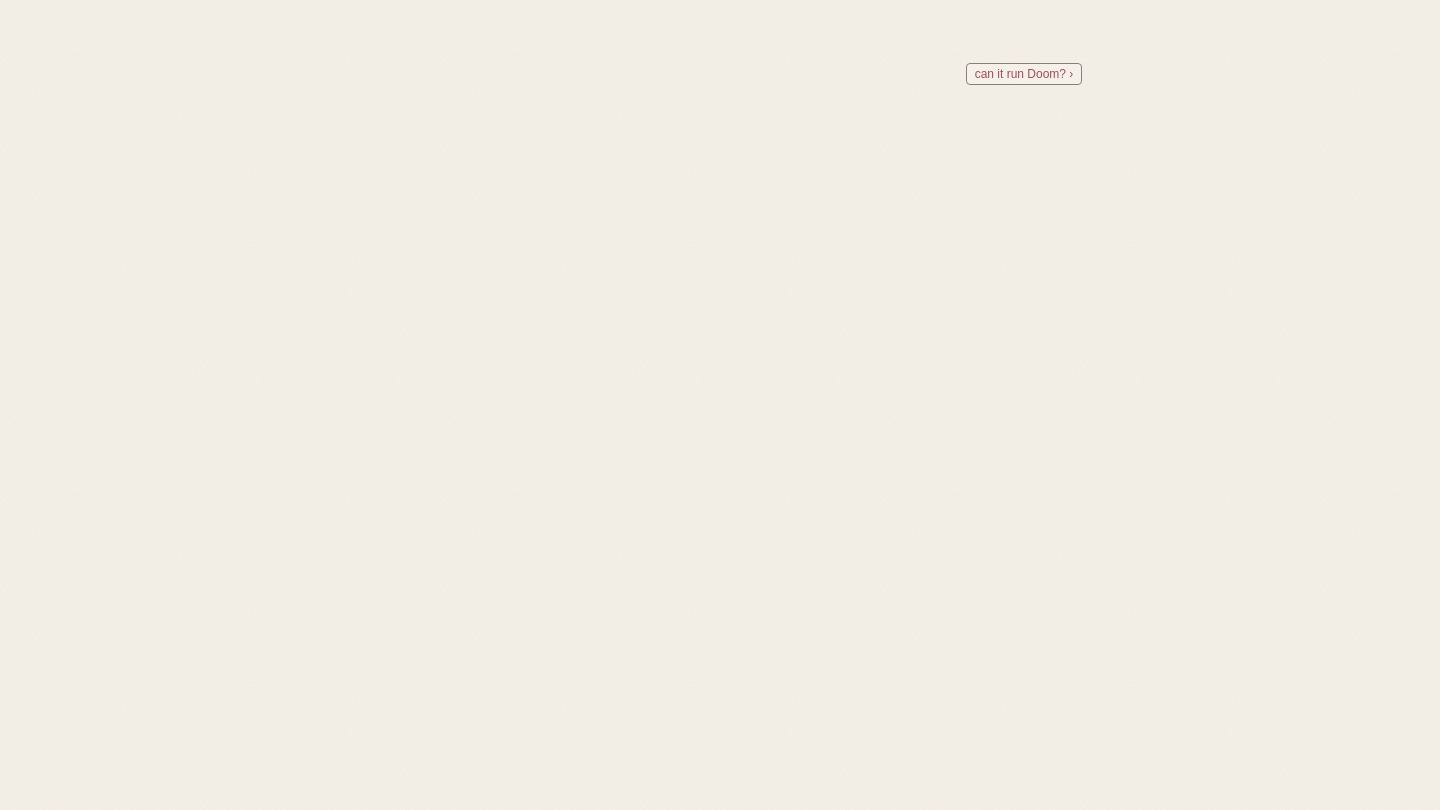
Test: LaptopScreen terminal › opens the terminal with the banner and focuses the input
Click the button with aria-label "Can it run Doom? Open the laptop terminal": {"x": 1024, "y": 74} [454,34,1108,88]
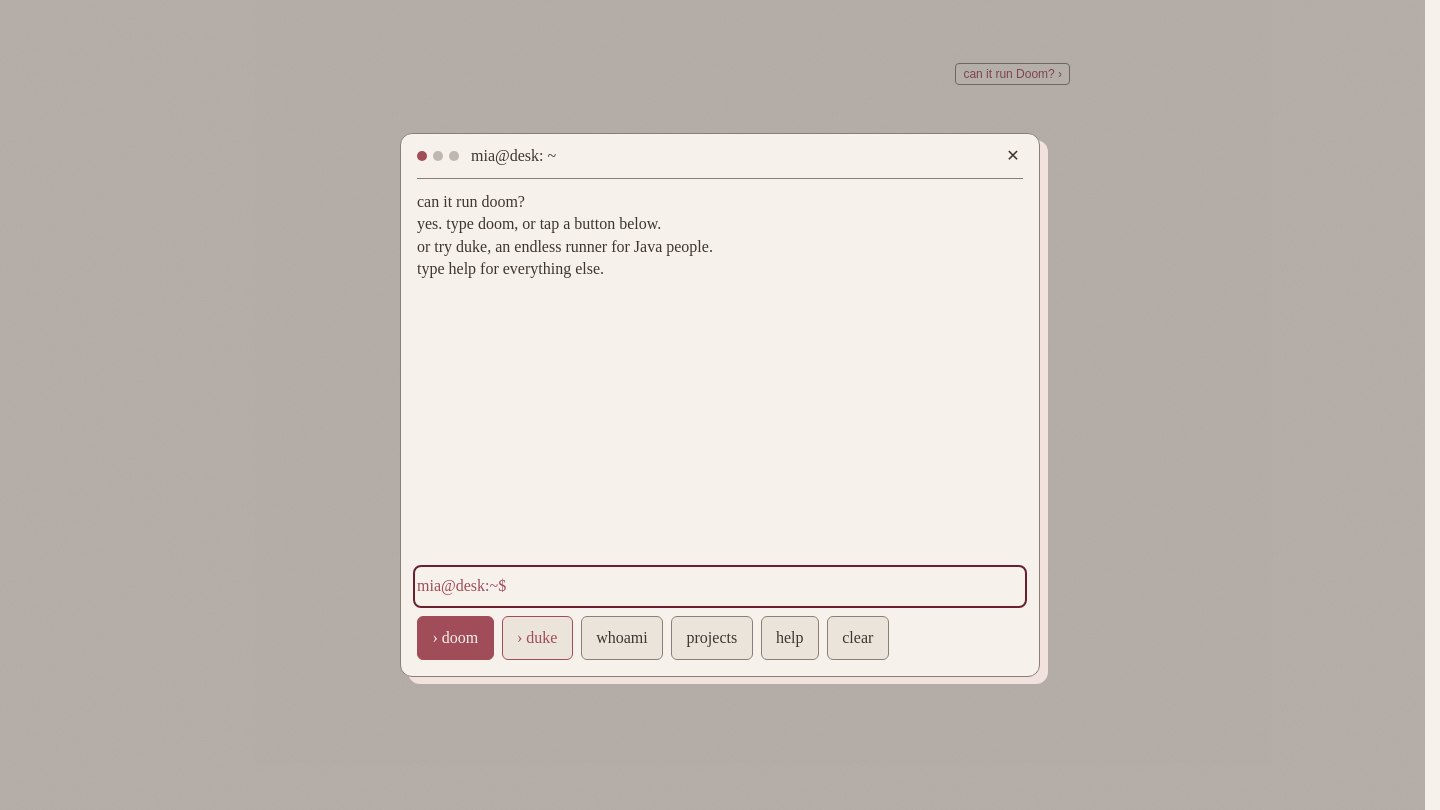
Now the list shows "can it run doom?", box [417,193,525,210]
